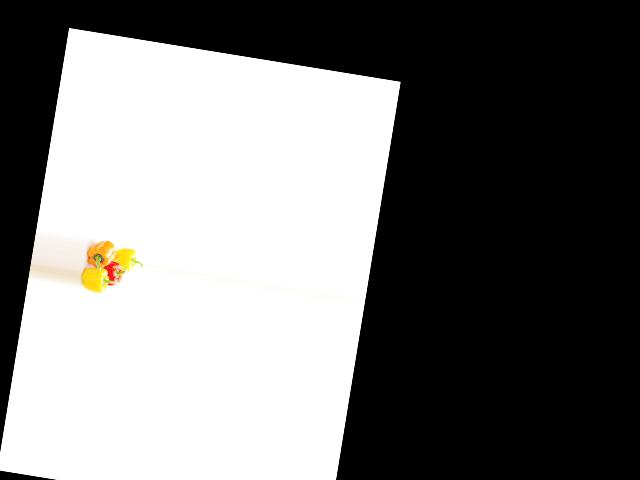bell_pepper: (79, 258, 116, 295)
